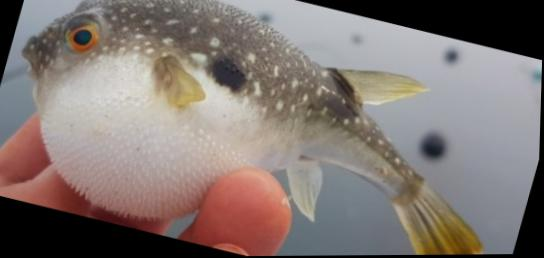fish: (22, 0, 483, 256)
